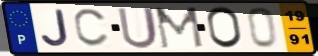0: (244, 6, 281, 50)
C: (72, 8, 111, 49)
J: (39, 8, 71, 49)
M: (153, 6, 206, 50)
O: (205, 5, 245, 50)
U: (115, 5, 160, 50)
